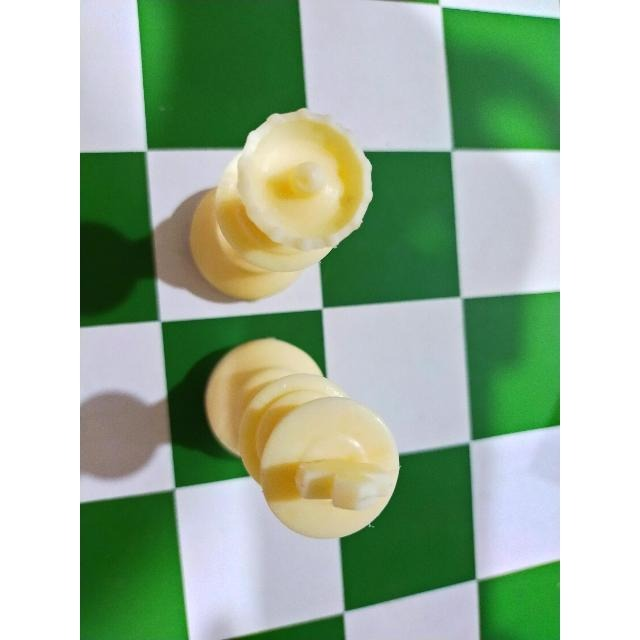white-king: (193, 334, 409, 552)
white-queen: (178, 105, 384, 307)
